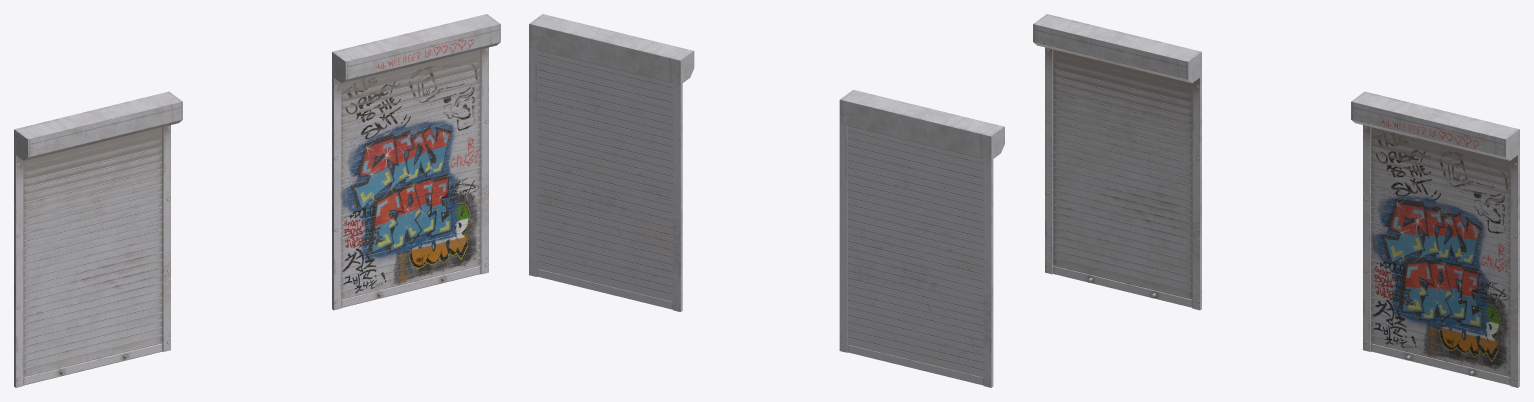
The model's file is rollershutter_window_03.glb.
3 views of the same model, side by side, from view 1: azimuth 30°, elevation 25°; view 2: azimuth 150°, elevation 25°; view 3: azimuth 330°, elevation 25° (orthographic). The views are drawn at different scales.
Visible parts, largest first — view 1: rollershutter_window_03_graffiti, rollershutter_window_03; view 2: rollershutter_window_03, rollershutter_window_03_graffiti; view 3: rollershutter_window_03, rollershutter_window_03_graffiti.
Part boxes in pixels (x1,y1,x2,y2): rollershutter_window_03_graffiti: (332,14,500,310); rollershutter_window_03: (14,91,182,387); rollershutter_window_03: (839,90,1004,387); rollershutter_window_03_graffiti: (529,14,694,311); rollershutter_window_03: (1033,14,1201,310); rollershutter_window_03_graffiti: (1351,91,1519,387).
Size of the model in its own units: 2.98 by 1.55 by 0.1531.
Materials: 2 (2 with a texture image).
